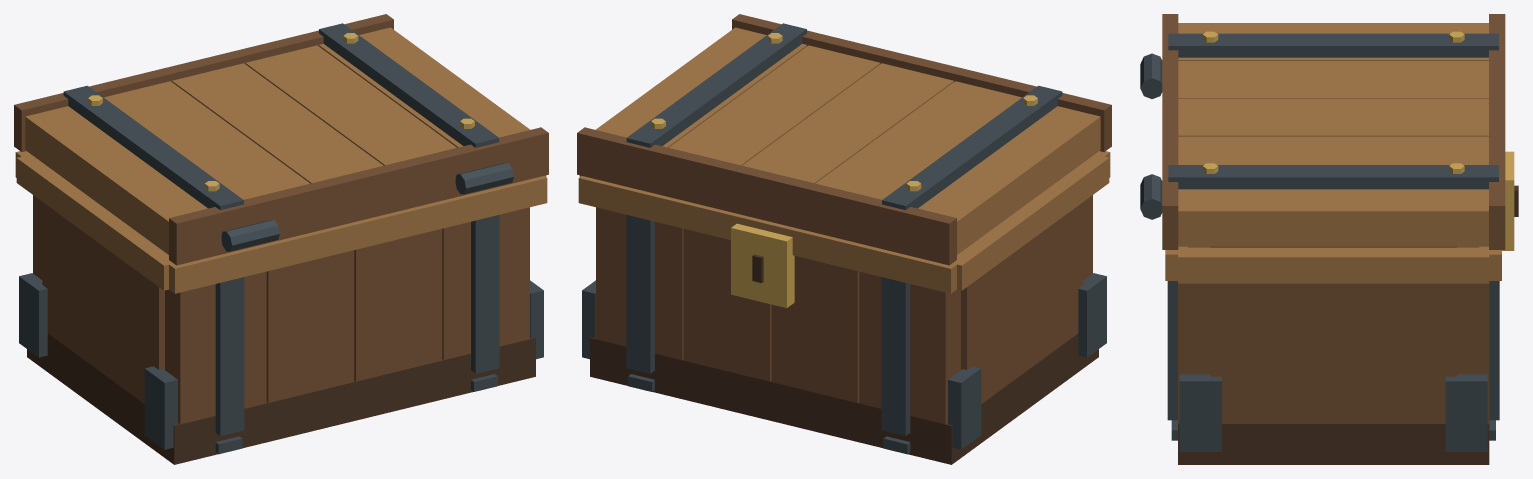
File: reward_chest_quality.glb
3 renders of one model, left to right at view 1: azimuth 30°, elevation 25°; view 2: azimuth 150°, elevation 25°; view 3: azimuth 270°, elevation 25°, orthographic. The views are drawn at different scales.
Parts seen in each view (by area): view 1: reward_chest_quality; view 2: reward_chest_quality; view 3: reward_chest_quality.
Part boxes in pixels (bbox=[...]): reward_chest_quality: bbox=[14, 14, 548, 464]; reward_chest_quality: bbox=[577, 14, 1111, 464]; reward_chest_quality: bbox=[1140, 14, 1518, 464].
Size of the model in its own units: 0.719 by 0.462 by 0.583.
